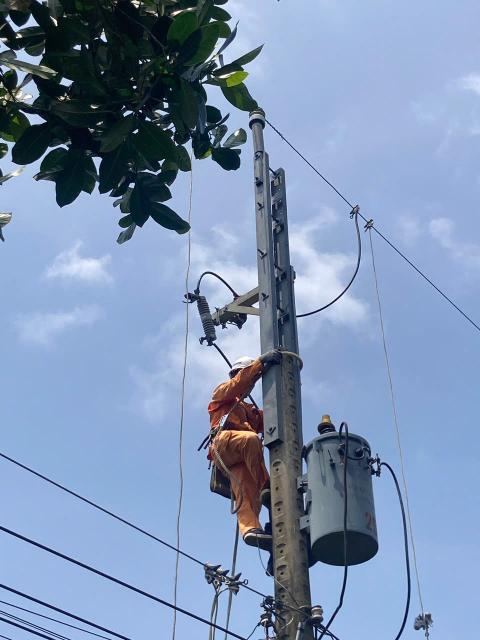gloves: (253, 346, 294, 372)
harness: (198, 419, 268, 443)
helmet: (220, 347, 268, 378)
shoes: (234, 527, 277, 543), (256, 483, 279, 511)
